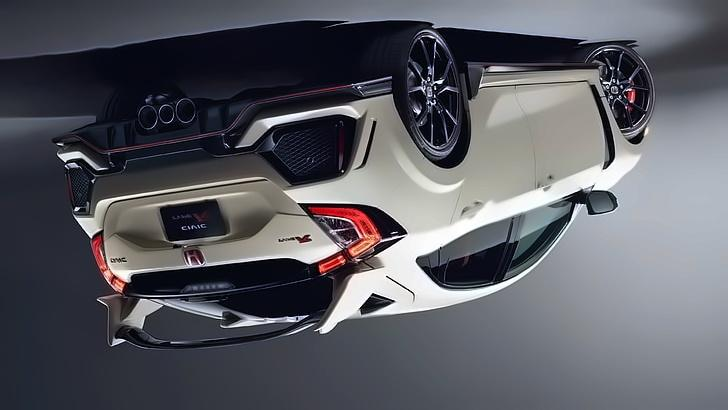Car boot: (99, 175, 342, 302)
Fender - -F-L-: (598, 64, 650, 192)
Fender - -R-L-: (389, 85, 471, 242)
Passenger-s door - -F-L-: (512, 80, 589, 287)
Passenger-s door - -R-L-: (439, 79, 510, 302)
Rear bumper: (46, 70, 369, 219)
Rear light - -L-: (296, 198, 414, 284)
Rear light - -R-: (83, 226, 137, 295)
Side bumper - -L-: (459, 55, 612, 100)
Side mirror - -L-: (569, 184, 625, 229)
